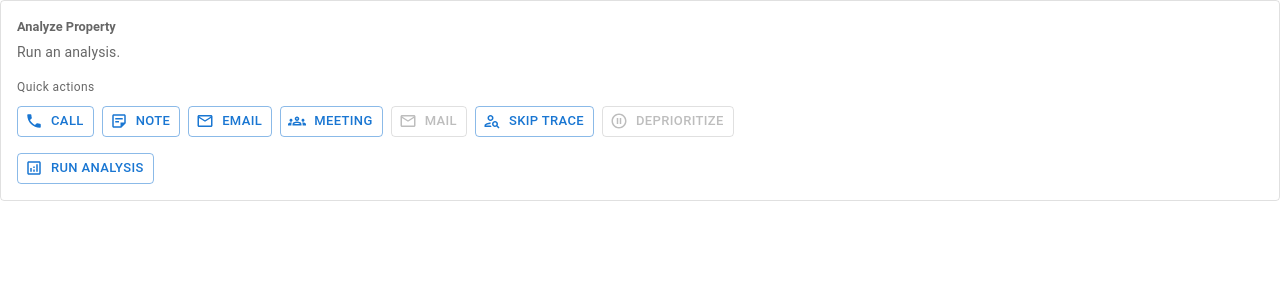
Test case: RecommendedActionPanel › inline error on action failure › still shows RA label and explanation after action failure
Click the button with test id "ra-action-btn-run_analysis" at (85, 168), box [17,153,154,184]
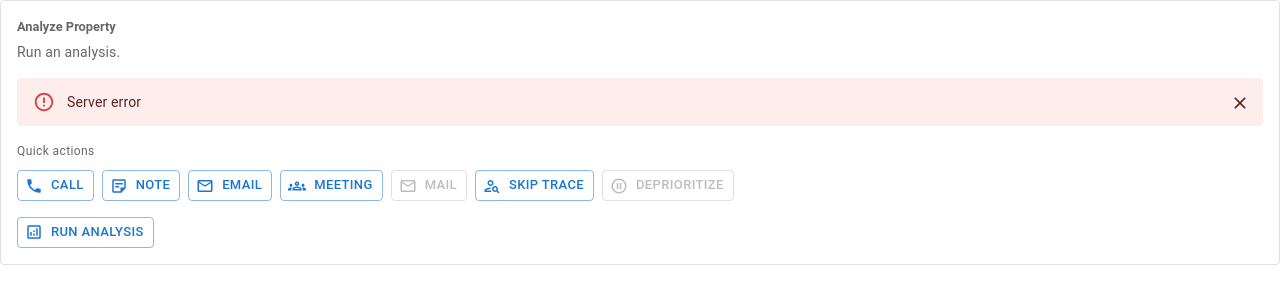
Expected: the text with test id "ra-label" reads "Analyze Property", [17,19,116,34]
Expected: the message "Server error" is shown, [17,78,1263,126]
